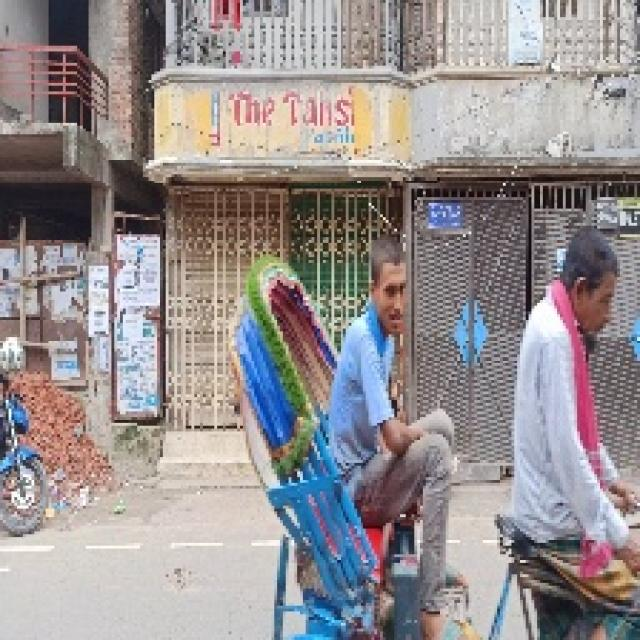rickshaw: (220, 210, 626, 617)
